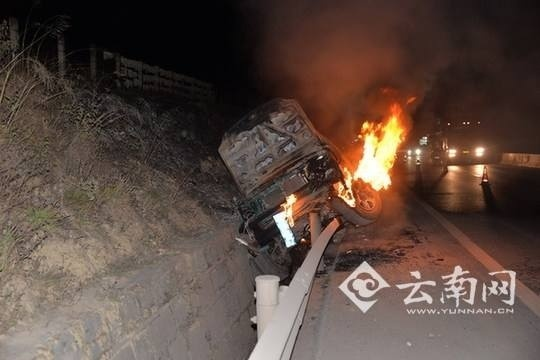fire: (338, 102, 409, 198), (277, 190, 299, 220)
